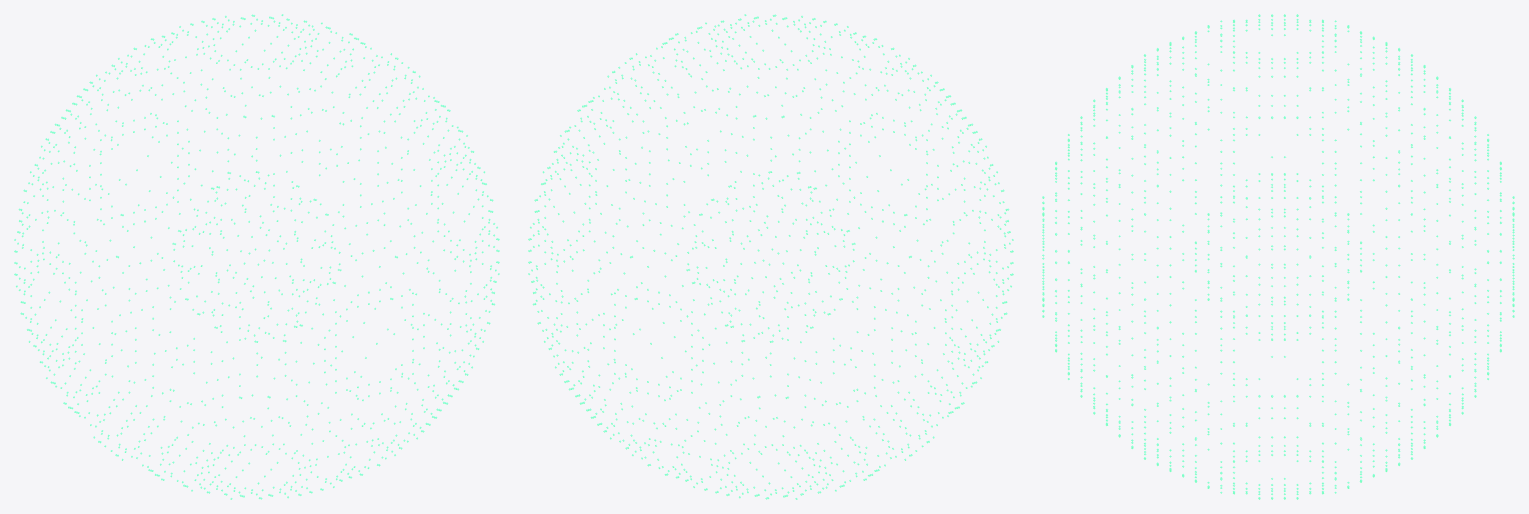
The model's file is orbital_n2_l0_m0_real_point_cloud.fbx.
The picture shows the model from 3 angles, left to right: view 1: azimuth 30°, elevation 25°; view 2: azimuth 150°, elevation 25°; view 3: azimuth 270°, elevation 25°; orthographic projection.
Parts seen in each view (by area): view 1: orbital_n2_l0_m0_real_point_cloud; view 2: orbital_n2_l0_m0_real_point_cloud; view 3: orbital_n2_l0_m0_real_point_cloud.
Part boxes in pixels (x1,y1,x2,y2): orbital_n2_l0_m0_real_point_cloud: (14,14,499,499); orbital_n2_l0_m0_real_point_cloud: (528,14,1013,499); orbital_n2_l0_m0_real_point_cloud: (1042,14,1514,499).
Bounding box in the file's own units: 1413 × 1413 × 1413.
